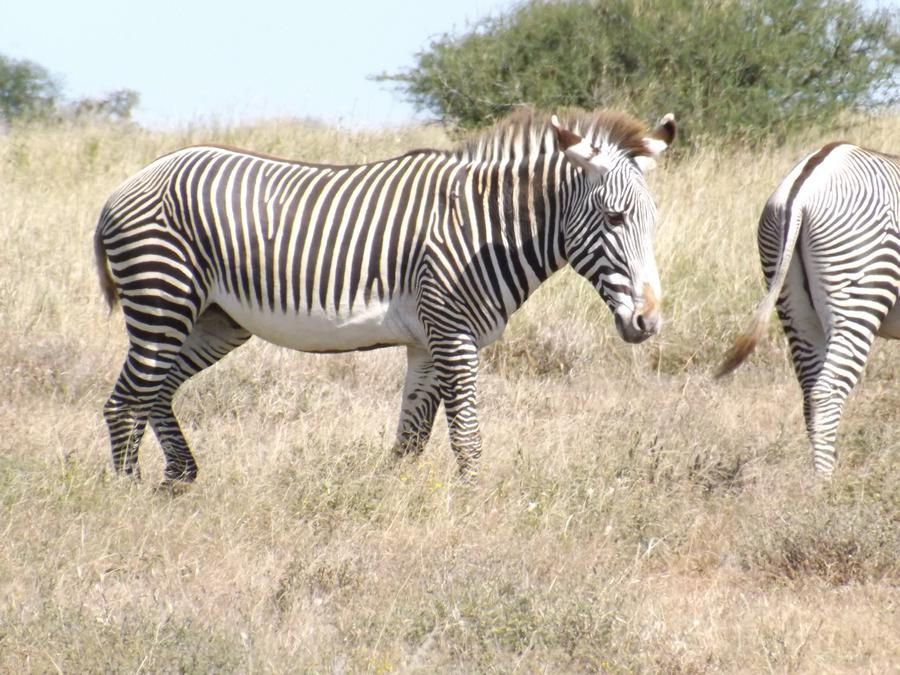zebra_grevys: (83, 113, 479, 350)
